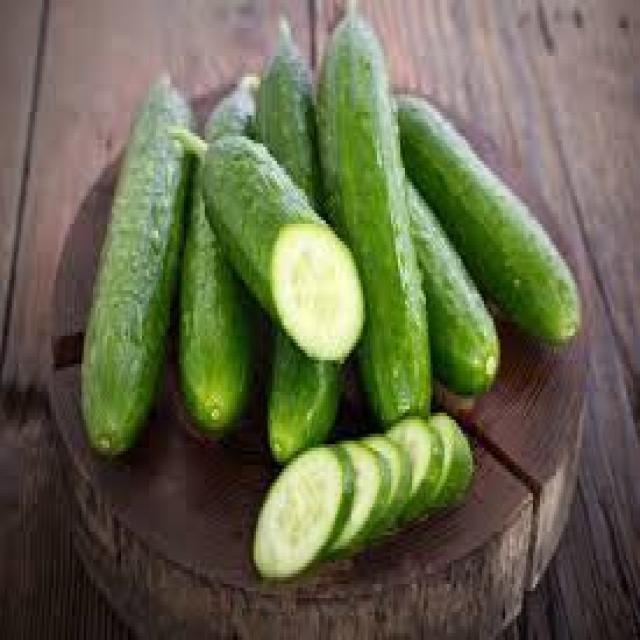cucumber: (80, 17, 582, 455)
